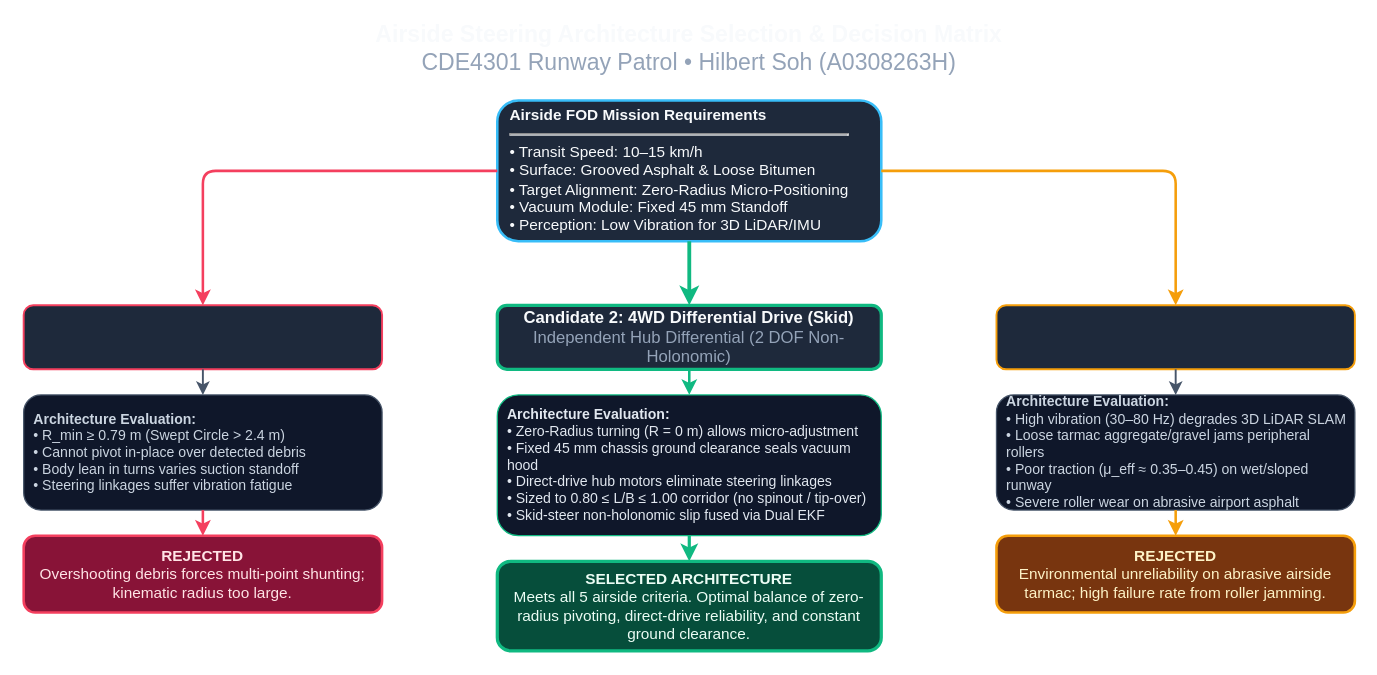
Image size: 1377x675. Some labels were removed from this diagram. Here are the shapes that lost their labels. From the top down, the centre of each, then its label:
(x=202, y=337): Candidate 1: Ackermann Steering Car-Like Knuckle Steering (2 DOF)
(x=1175, y=337): Candidate 3: Mecanum Wheel Drive 45° Angled Sub-Rollers (3 DOF Holonomic)
